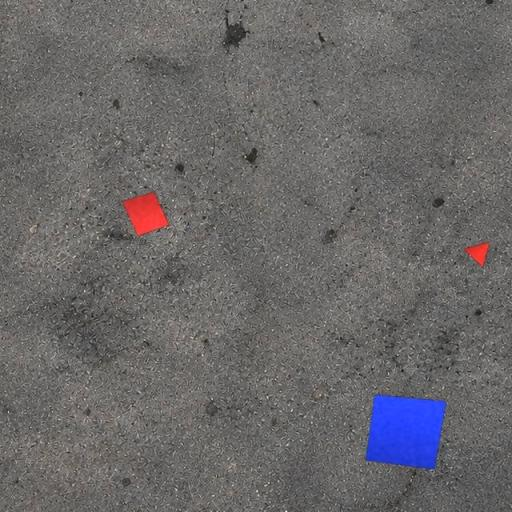BLUE_SQUARE: (365, 394, 447, 470)
RED_SQUARE: (120, 190, 170, 237)
